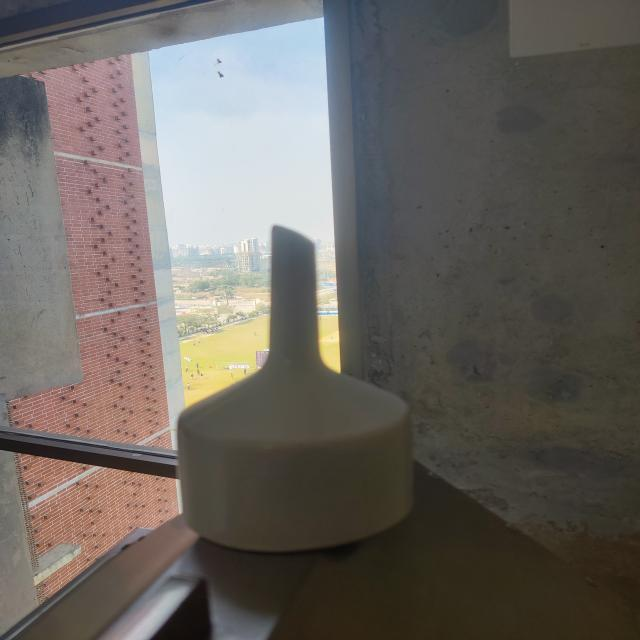Buchner_Funnel: (162, 200, 458, 577)
